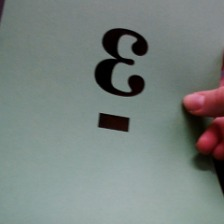green3: (83, 21, 157, 137)
